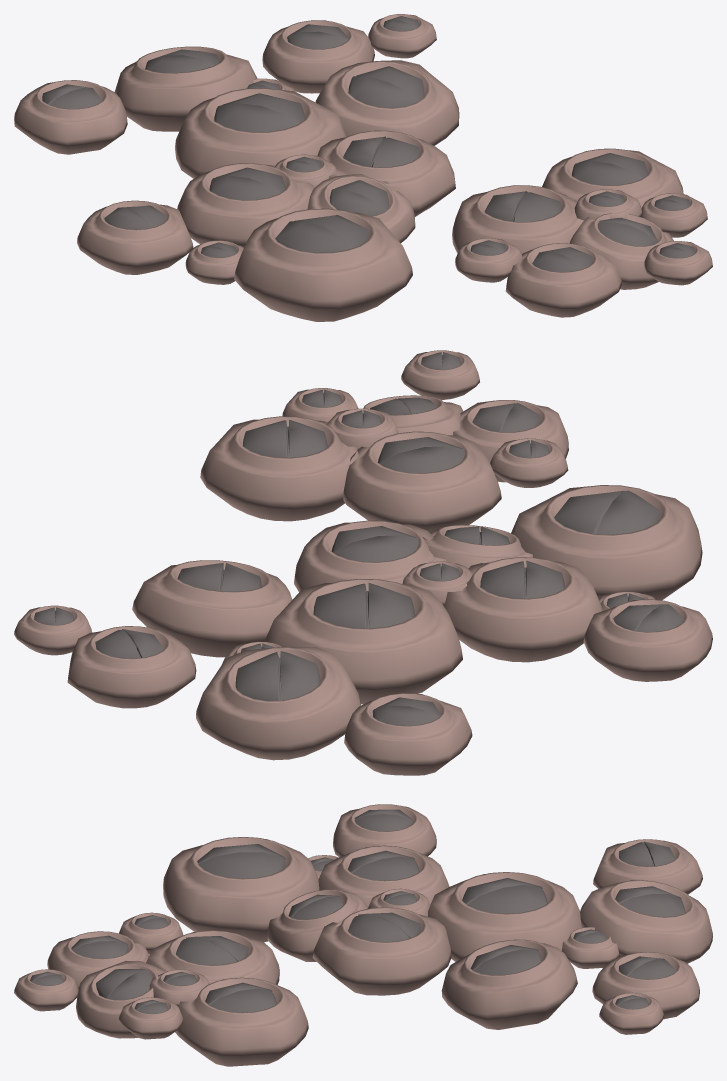
Rendered from SM_Barnacles_Placeholder.fbx.
3 views of the same model, one above another, from view 1: azimuth 30°, elevation 25°; view 2: azimuth 150°, elevation 25°; view 3: azimuth 270°, elevation 25° (orthographic). The views are drawn at different scales.
Parts seen in each view (by area): view 1: SM_Barnacles; view 2: SM_Barnacles; view 3: SM_Barnacles.
Part boxes in pixels (box(x1,y1,x2,y2)): SM_Barnacles: box(14, 14, 712, 321); SM_Barnacles: box(14, 350, 712, 775); SM_Barnacles: box(14, 804, 712, 1066).
Size of the model in its own units: 276 by 44.04 by 346.
